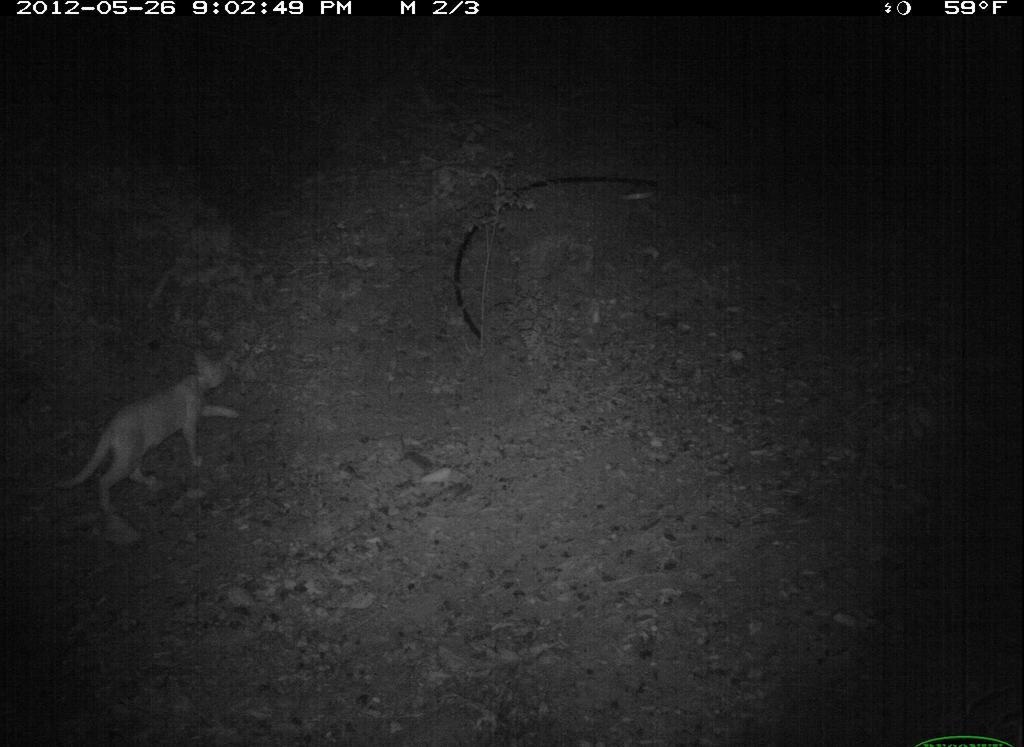cat: (45, 344, 255, 529)
